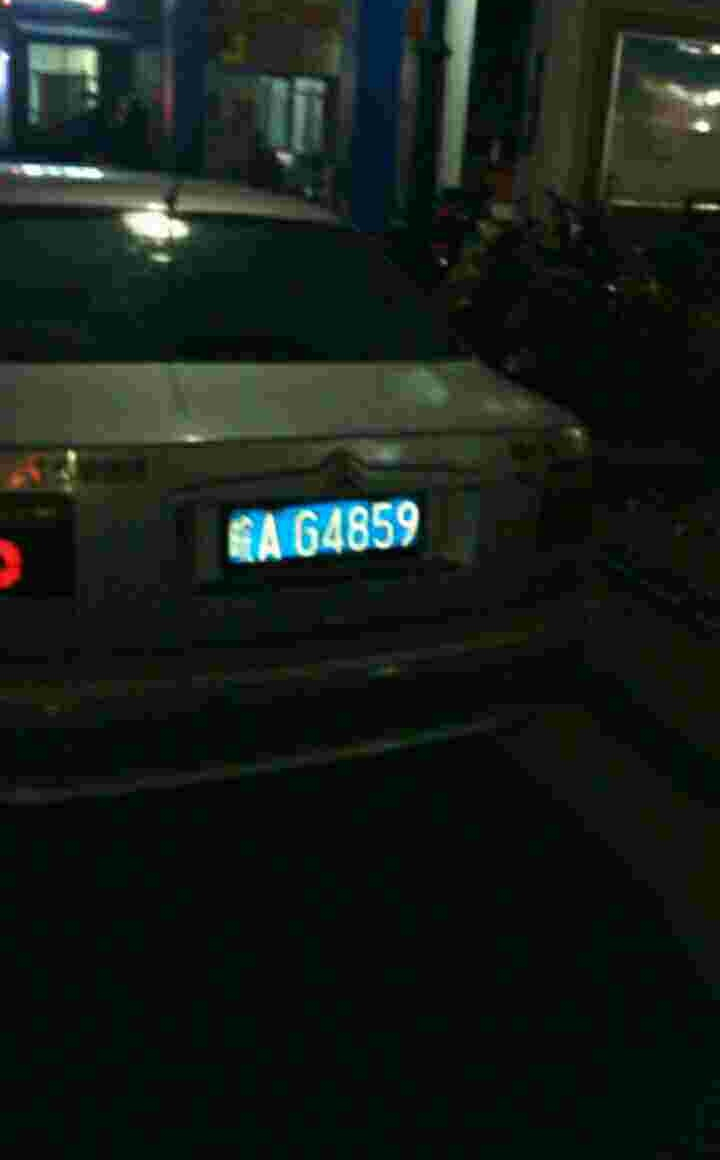license_plate: (226, 491, 430, 568)
